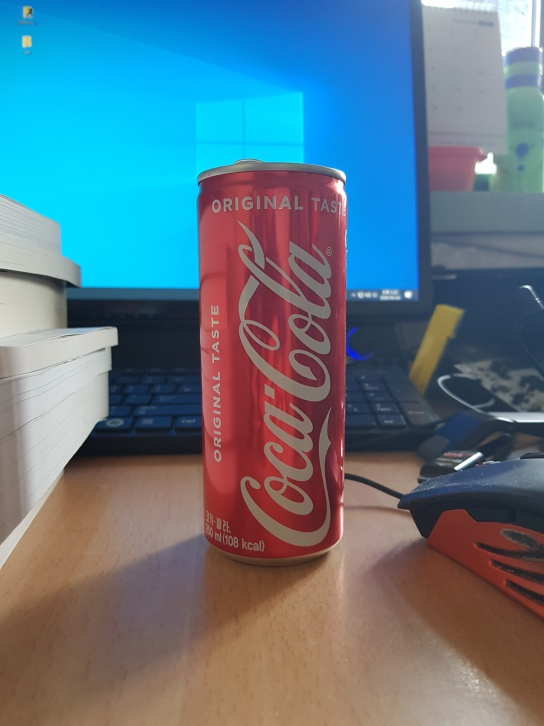Can: (192, 159, 351, 565)
